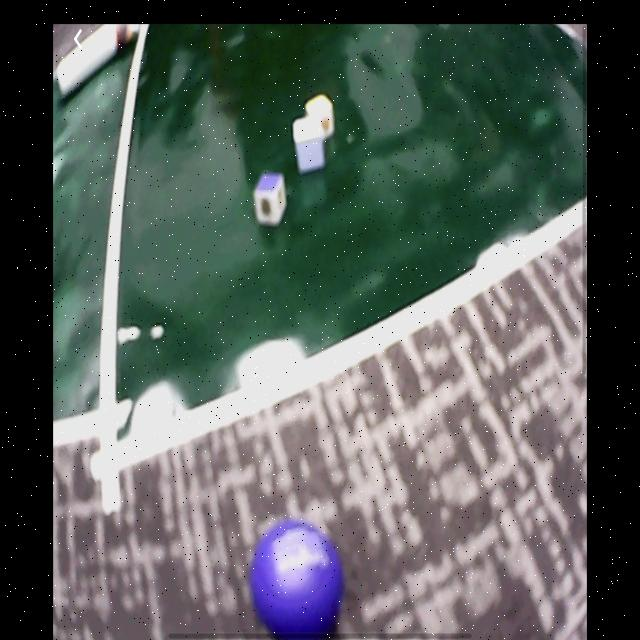ball: (252, 522, 345, 638)
